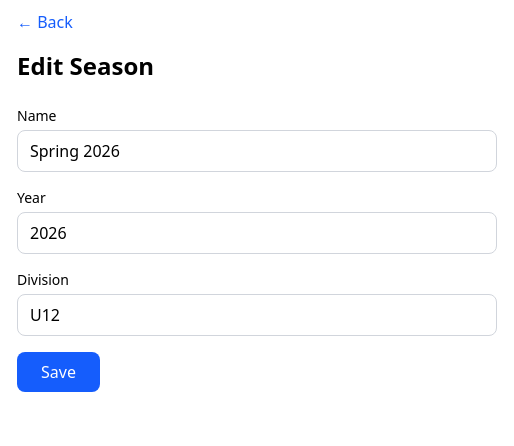
Test: EditSeason › shows validation error for empty name
This screenshot has width=514, height=446.
Clear the field labelled "Name" at x=257, y=151, box left=17, top=130, right=497, bottom=172
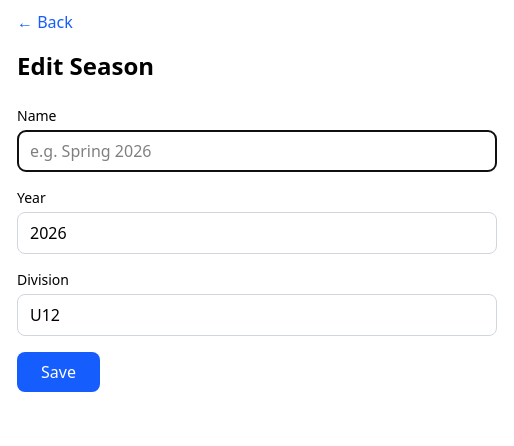
Click the button "Save" at x=58, y=372, box left=17, top=352, right=100, bottom=392
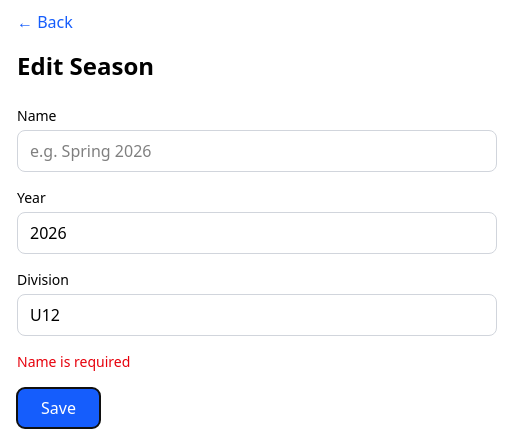
Now the text "Name is required" is shown, box left=17, top=352, right=130, bottom=371
